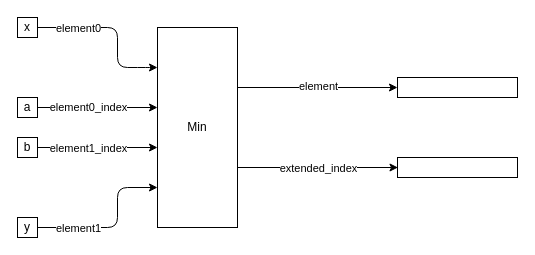
Image size: 535x255. Some labels were removed from this diagram. Here are the shapes that lost their labels. From the top down, the centre of each, then its label:
the point at 457,87: min(x,y)
the point at 457,167: {min_index(x,y),a}
